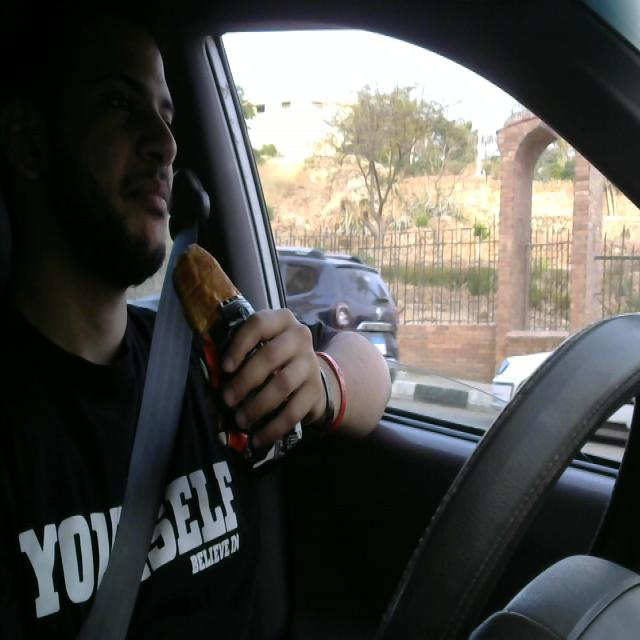eating: (165, 234, 304, 466)
